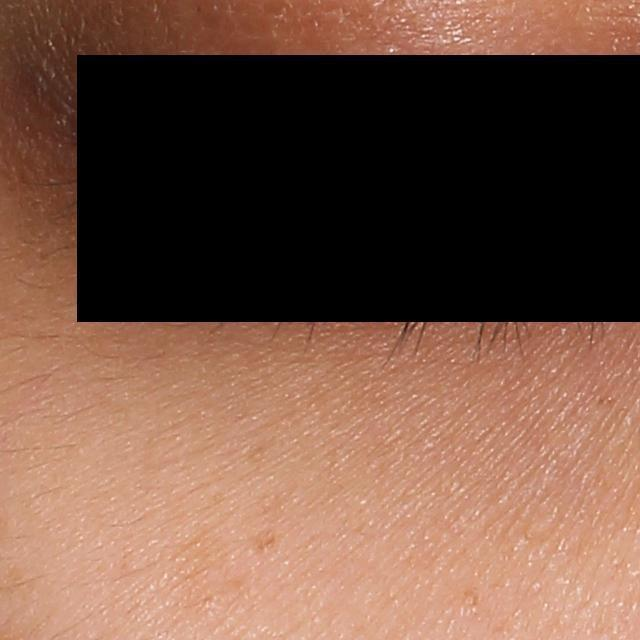melasma: (251, 525, 284, 556)
